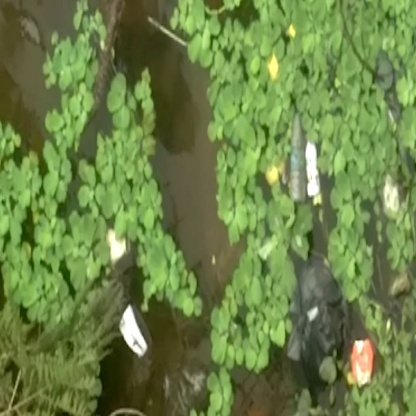plastic-bag: (284, 253, 345, 368)
